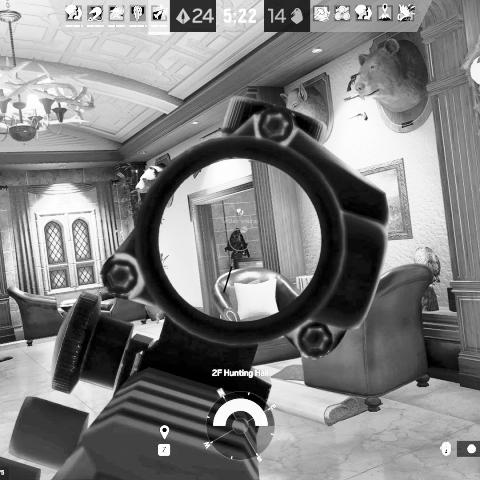Character: (224, 226, 252, 260)
Friend_label: (221, 207, 259, 224)
Head: (239, 226, 248, 233)
